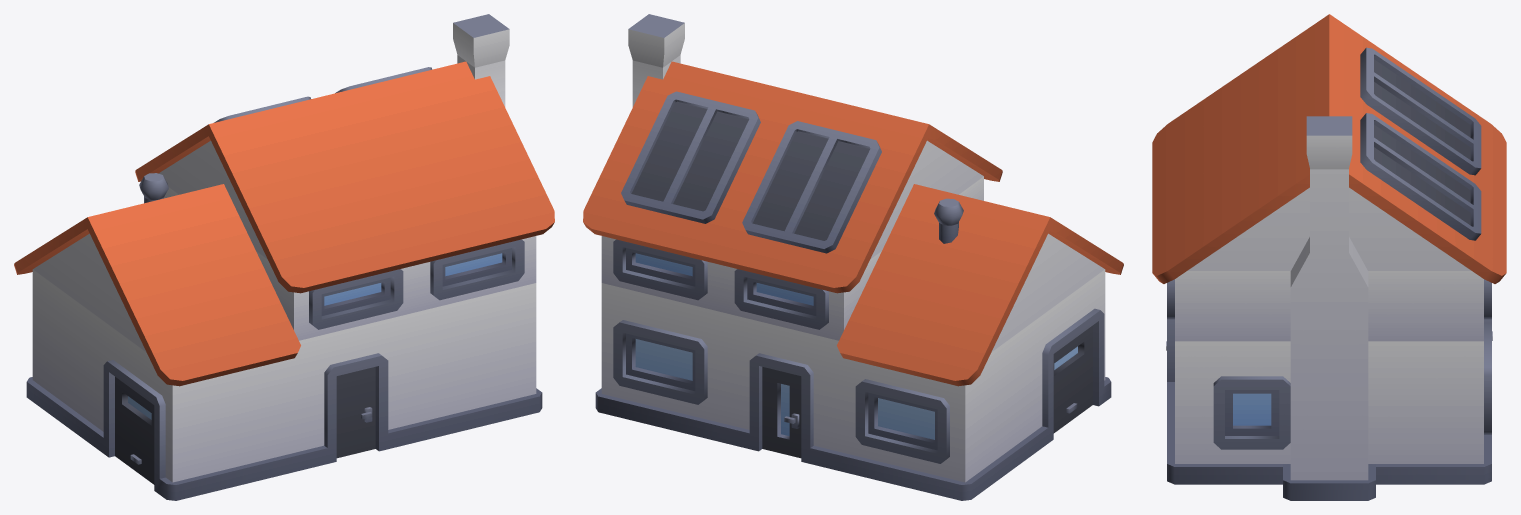
Rendered from house_suburb_j_warm.glb.
3 renders of one model, left to right at view 1: azimuth 30°, elevation 25°; view 2: azimuth 150°, elevation 25°; view 3: azimuth 270°, elevation 25°, orthographic. The views are drawn at different scales.
Parts seen in each view (by area): view 1: building-type-j; view 2: building-type-j; view 3: building-type-j.
Boxes of the visible parts, x1,y1,x2,y2 form: building-type-j: (14, 14, 554, 500); building-type-j: (583, 14, 1123, 500); building-type-j: (1152, 14, 1506, 500).
Size of the model in its own units: 1.37 by 1.04 by 0.9161.
1 material, 1 textured.
